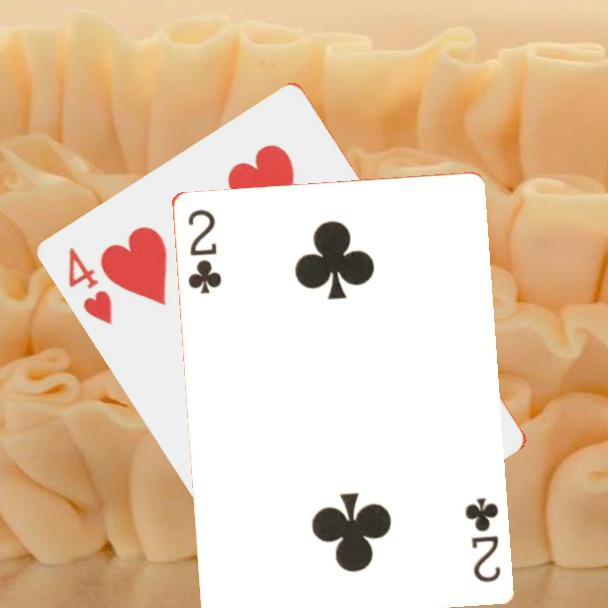c02: (461, 493, 503, 585), (183, 205, 224, 296)
h04: (65, 243, 117, 329)
